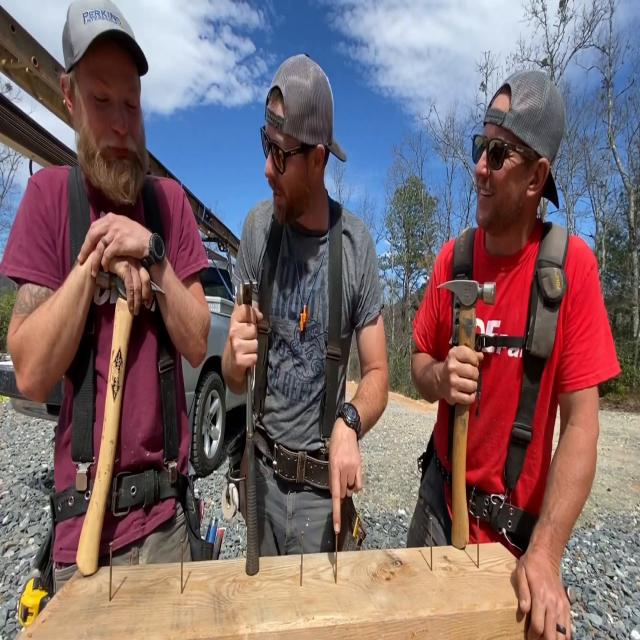hammer: (78, 267, 165, 574), (438, 282, 496, 548), (238, 280, 259, 572)
